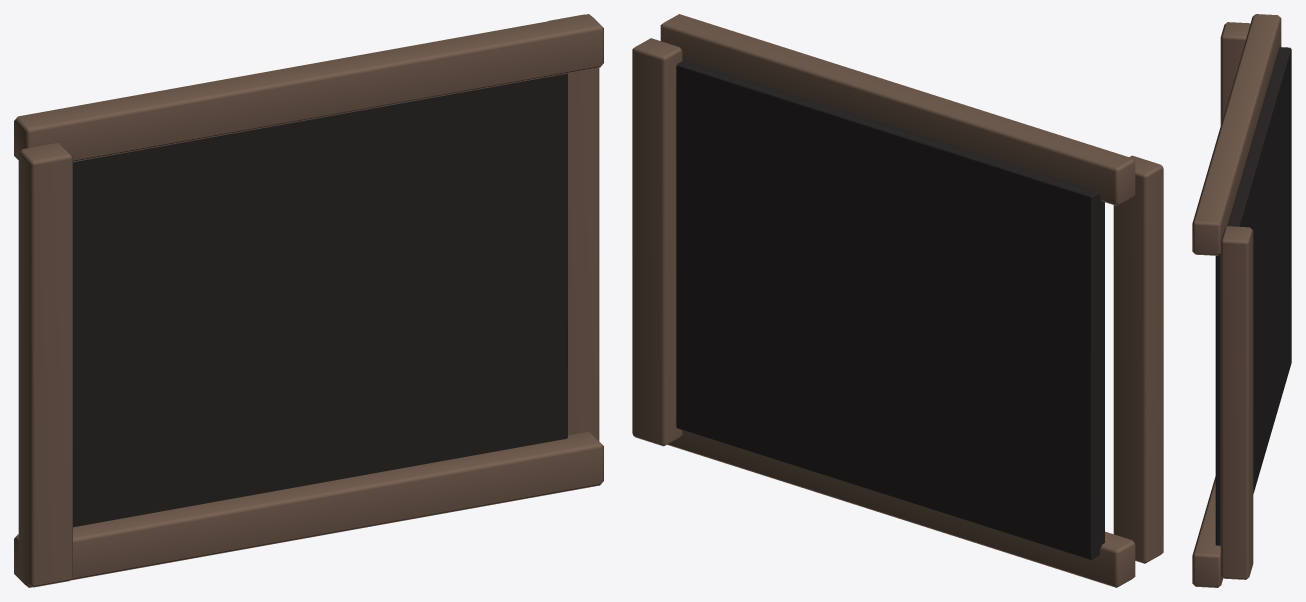
Rendered from prop_wall_frame_crooked_01.glb.
3 views of the same model, side by side, from view 1: azimuth 30°, elevation 25°; view 2: azimuth 150°, elevation 25°; view 3: azimuth 270°, elevation 25° (orthographic). The views are drawn at different scales.
Parts seen in each view (by area): view 1: frame_back_dark.002, frame_top.003, frame_bottom.003, frame_left.003, frame_right.003; view 2: frame_back_dark.002, frame_top.003, frame_left.003, frame_right.003, frame_bottom.003; view 3: frame_back_dark.002, frame_right.003, frame_top.003, frame_bottom.003, frame_left.003.
Part boxes in pixels (x1,y1,x2,y2): frame_back_dark.002: (73,73,567,527); frame_top.003: (14,14,603,162); frame_bottom.003: (14,432,603,587); frame_left.003: (18,143,72,587); frame_right.003: (548,14,599,440); frame_back_dark.002: (676,59,1104,559); frame_top.003: (660,14,1135,205); frame_left.003: (1113,155,1163,563); frame_right.003: (632,38,682,446); frame_bottom.003: (667,430,1135,587); frame_back_dark.002: (1215,47,1291,545); frame_right.003: (1220,226,1253,579); frame_top.003: (1192,14,1281,255); frame_bottom.003: (1192,476,1223,587); frame_left.003: (1220,22,1250,125).
Size of the model in its own units: 0.628 by 0.485 by 0.1191.
